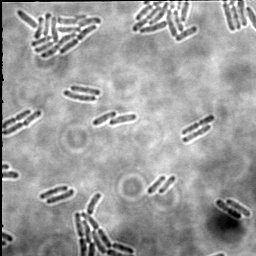Dividing: (3, 109, 43, 137), (181, 114, 216, 136), (181, 124, 213, 144), (2, 109, 32, 129), (39, 184, 68, 201), (63, 89, 98, 103)
Microcolony: (16, 9, 102, 60), (73, 192, 137, 256), (132, 1, 198, 44), (222, 1, 255, 33)
Rod: (46, 188, 76, 205), (226, 198, 252, 217), (91, 110, 117, 127), (147, 175, 167, 196), (71, 84, 101, 97), (158, 175, 177, 195), (109, 113, 138, 126)
